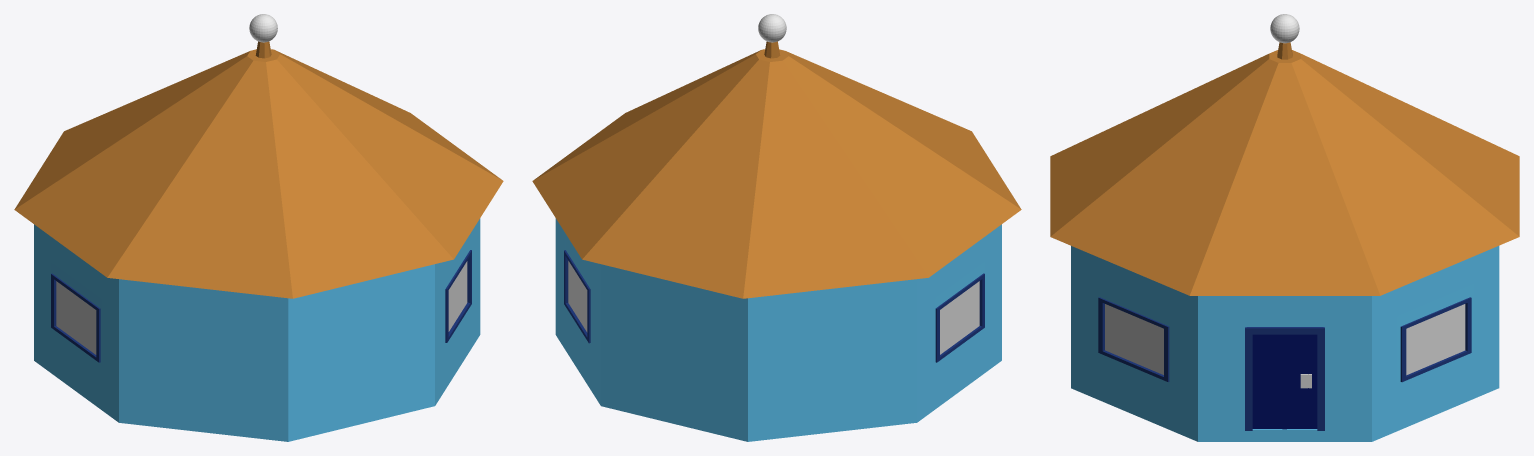
File: Home.fbx
3 views of the same model, side by side, from view 1: azimuth 30°, elevation 25°; view 2: azimuth 150°, elevation 25°; view 3: azimuth 270°, elevation 25° (orthographic). The views are drawn at different scales.
Visible parts, largest first — view 1: Куб.001, Куб; view 2: Куб.001, Куб; view 3: Куб.001, Куб, door_second, door_first.
Boxes of the visible parts, x1,y1,x2,y2 form: Куб.001: [14, 14, 503, 298]; Куб: [34, 218, 480, 441]; Куб.001: [532, 14, 1021, 298]; Куб: [555, 218, 1001, 441]; Куб.001: [1050, 14, 1519, 295]; Куб: [1071, 246, 1499, 441]; door_second: [1284, 334, 1317, 429]; door_first: [1252, 334, 1284, 429].
Bounding box in the file's own units: 2773 × 2211 × 2773.
